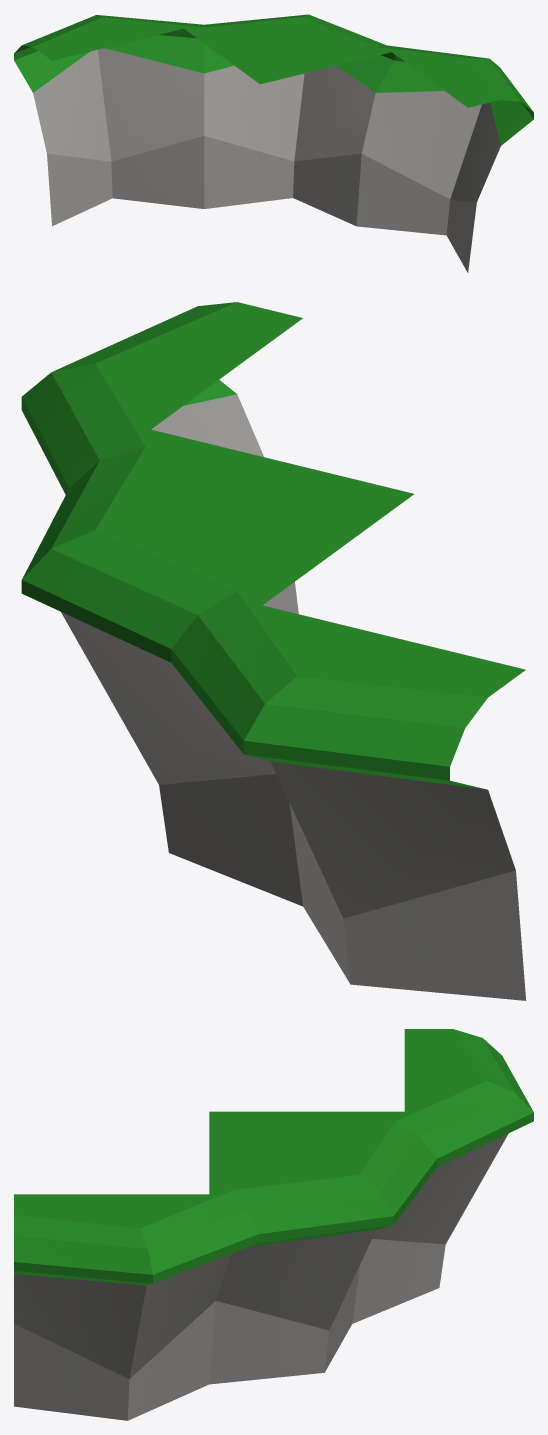
File: Cliff_Terrain_Corner_Outer_3x3_Top.obj
3 views of the same model, one above another, from view 1: azimuth 30°, elevation 25°; view 2: azimuth 150°, elevation 25°; view 3: azimuth 270°, elevation 25° (orthographic). The views are drawn at different scales.
Parts seen in each view (by area): view 1: object1; view 2: object1; view 3: object1.
Part boxes in pixels (x1,y1,x2,y2): object1: (14,14,533,272); object1: (21,302,525,1000); object1: (14,1029,533,1420).
Bounding box in the file's own units: 2.66 × 1.2 × 2.66.
